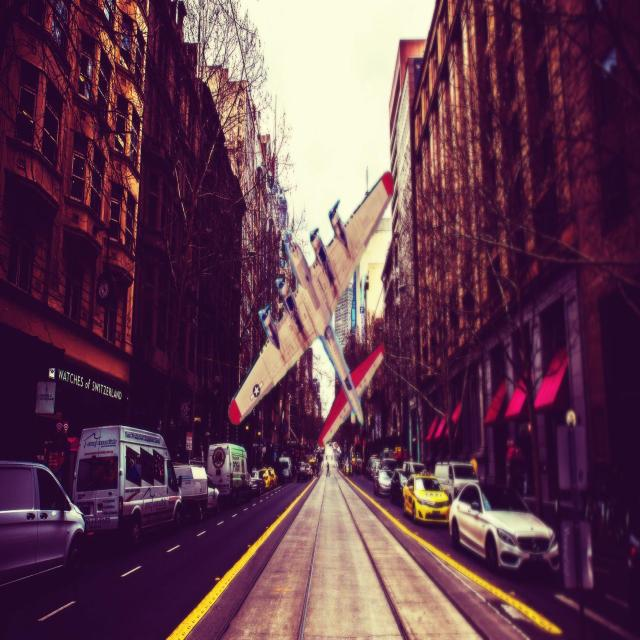airplane: (227, 169, 394, 446)
